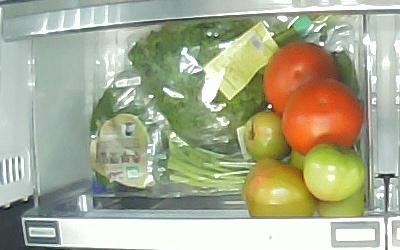tomato: (282, 78, 364, 155), (264, 41, 341, 117), (242, 158, 316, 217), (303, 142, 366, 201), (244, 111, 291, 162), (319, 190, 365, 217)
